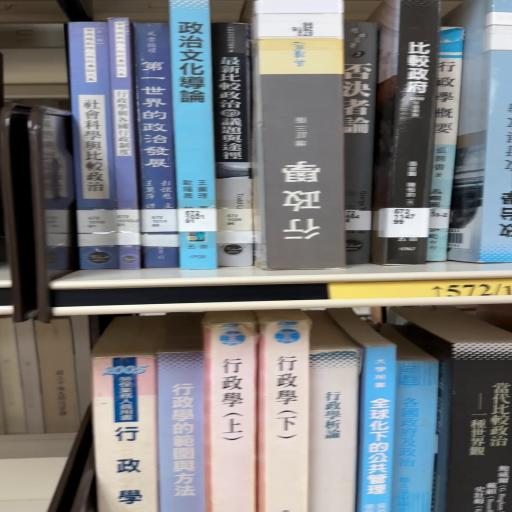reverse: (253, 1, 347, 271)
